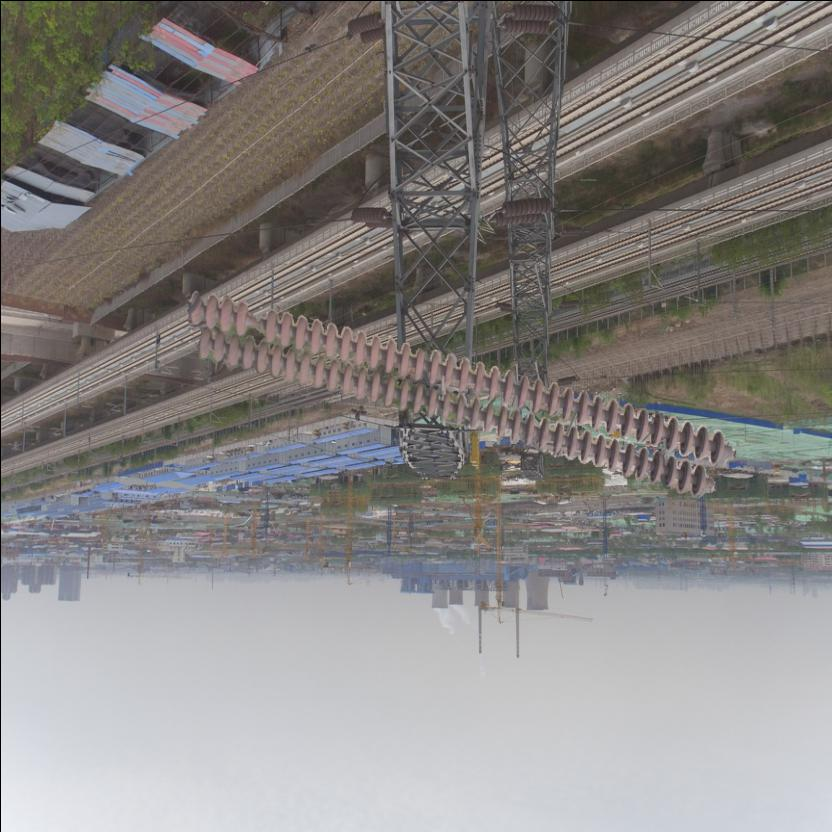defect: (230, 301, 278, 348)
